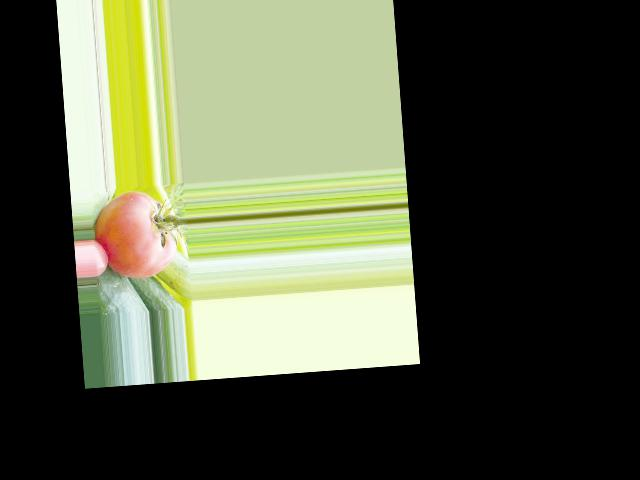tomato: (91, 188, 178, 281)
